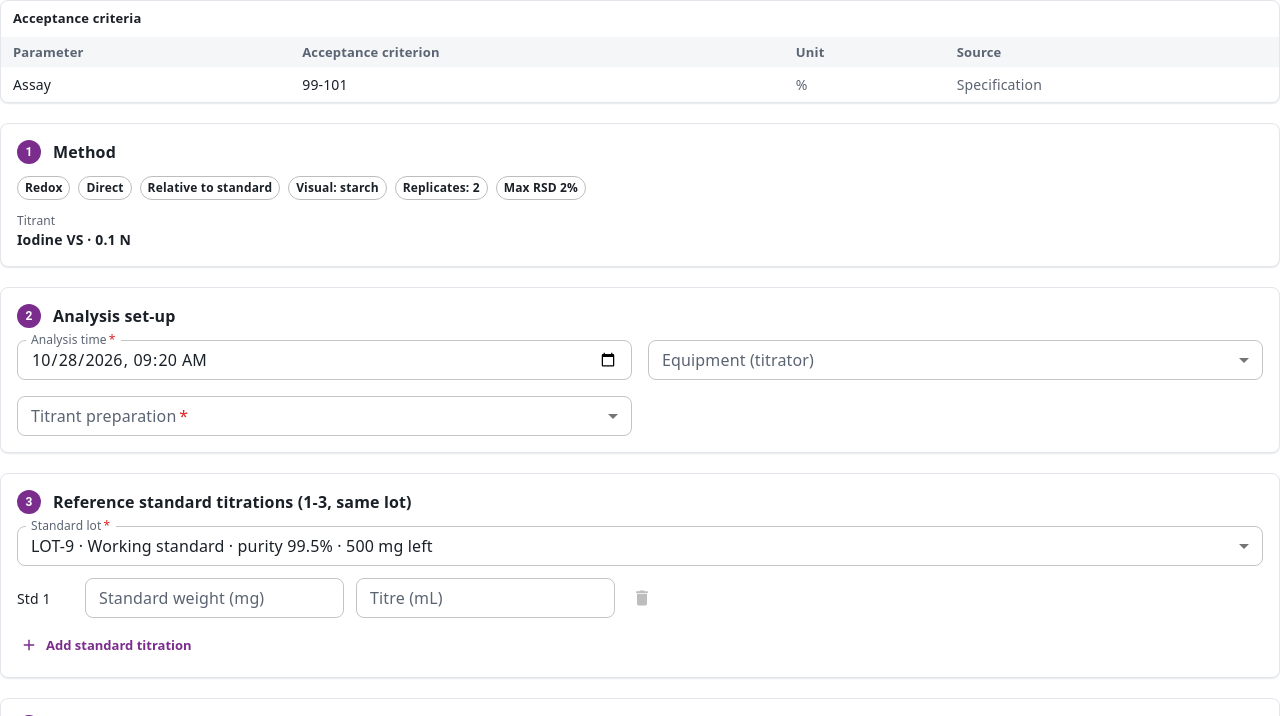
Test: TitrationPanel › shows the standard section only for the relative method, with add/remove rows
Expected: the text "Method" is shown, 53,140 -> 116,164
Expected: the text "Reference standard titrations (1-3, same lot)" is shown, 53,490 -> 412,514
Step 1. Click the button "Add standard titration" → (107, 646), box 17,630 -> 197,661
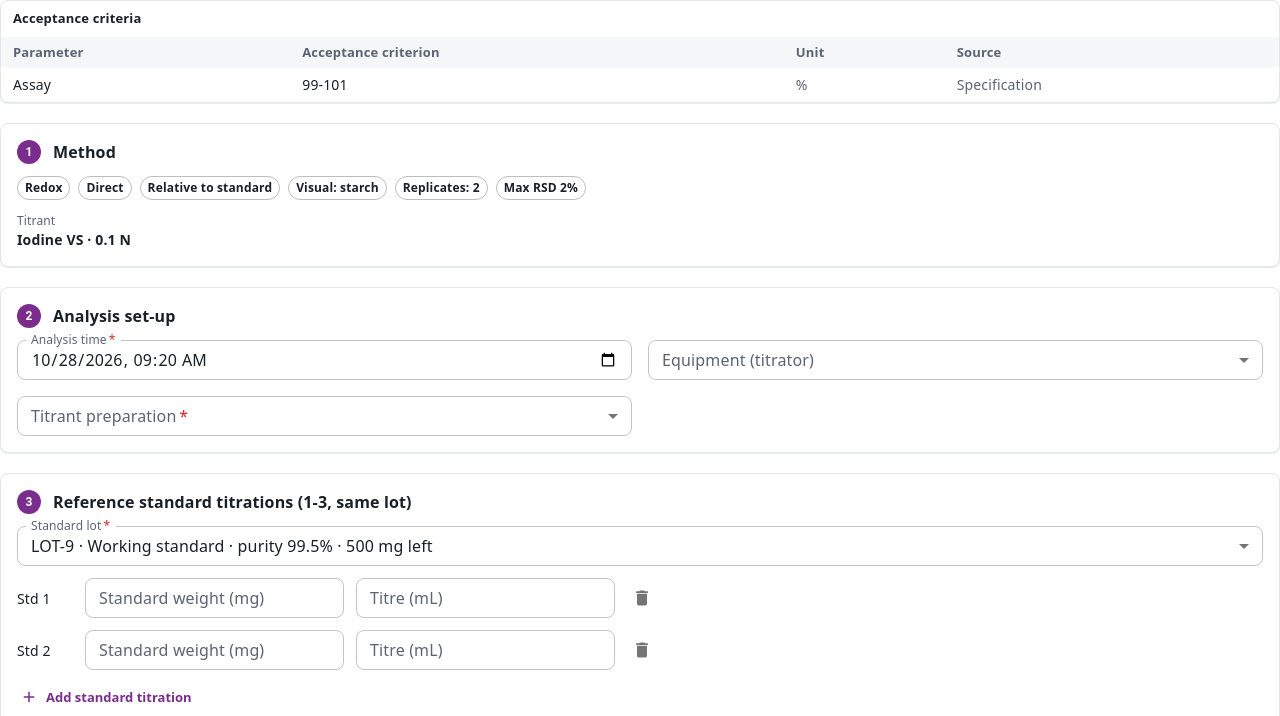
Expected: the text "Std 2" is shown, 17,641 -> 51,660
Step 2. Click the button named "Remove standard 2" → (642, 650), box 627,635 -> 657,665
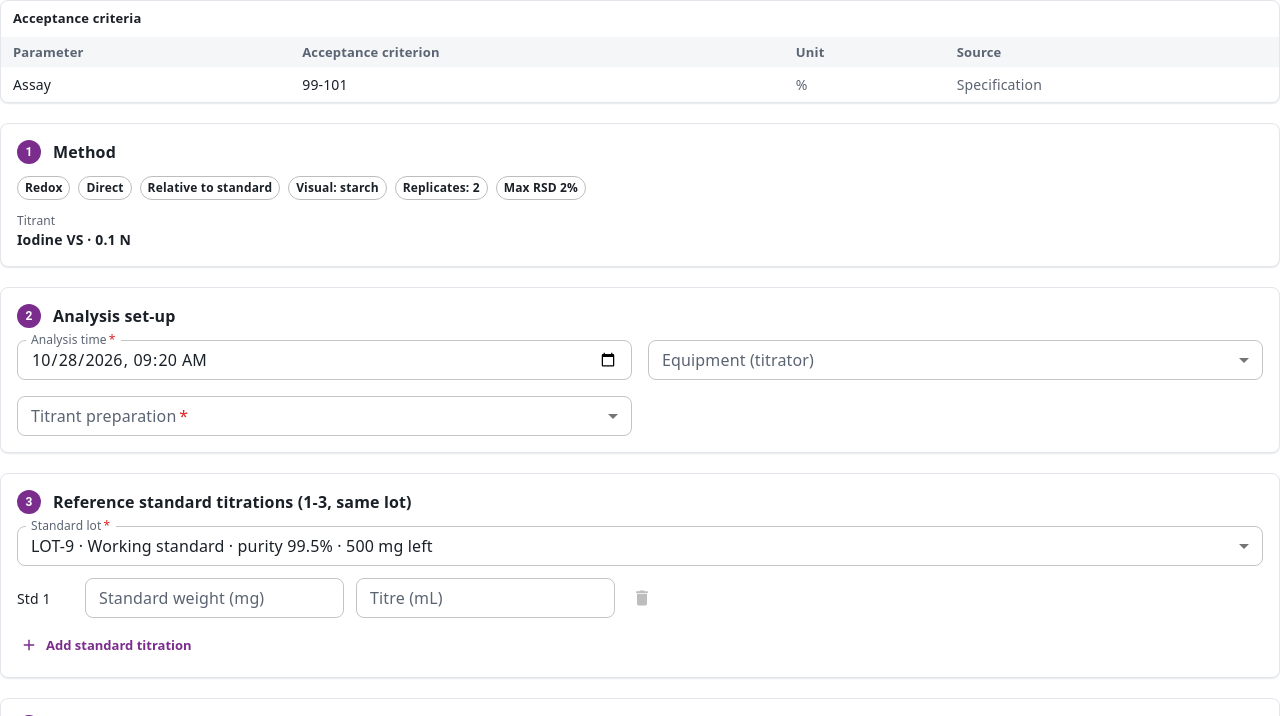
Expected: the text "Std 2" is gone
